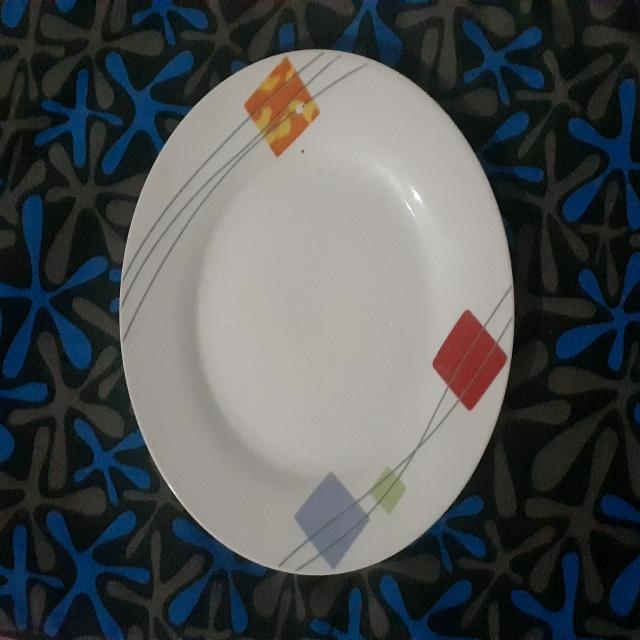non-organic waste: (119, 47, 514, 592)
